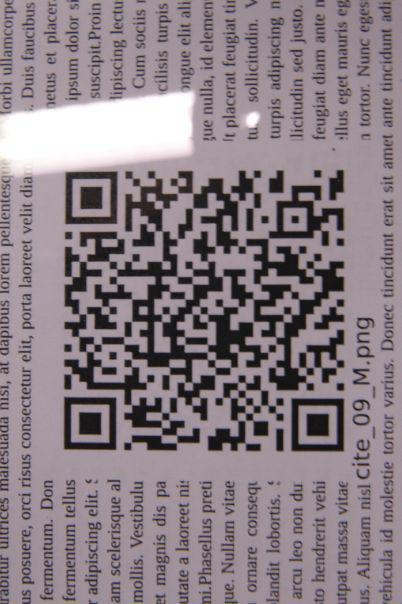Finder pattern: (60, 389, 123, 455), (289, 392, 351, 458), (60, 168, 125, 227)
